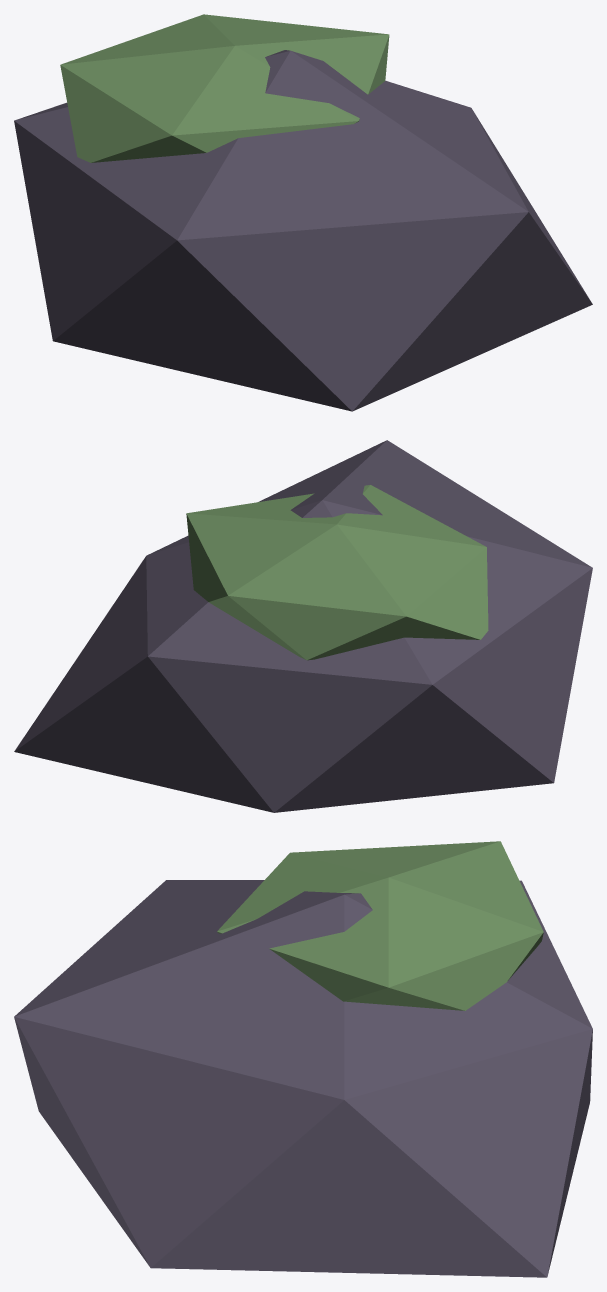
The model's file is rock_mossy.glb.
3 renders of one model, top to bottom at view 1: azimuth 30°, elevation 25°; view 2: azimuth 150°, elevation 25°; view 3: azimuth 270°, elevation 25°, orthographic. The views are drawn at different scales.
Visible parts, largest first — view 1: boulder, detail_moss; view 2: boulder, detail_moss; view 3: boulder, detail_moss.
Part boxes in pixels (bbox=[...]): boulder: bbox=[14, 50, 592, 411]; detail_moss: bbox=[60, 14, 389, 162]; boulder: bbox=[14, 440, 592, 812]; detail_moss: bbox=[186, 485, 488, 660]; boulder: bbox=[14, 880, 592, 1277]; detail_moss: bbox=[217, 841, 543, 1010].
Bounding box in the file's own units: 0.6515 × 0.4031 × 0.6536.
